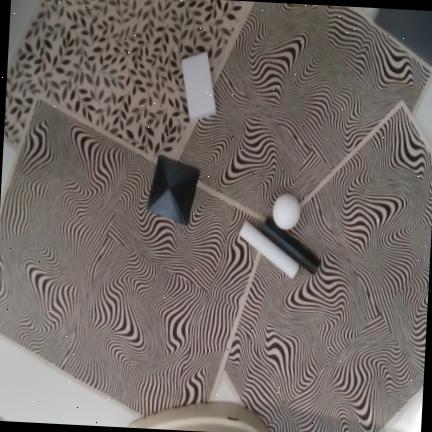Cilindro: (239, 220, 299, 279), (261, 217, 320, 274)
Esfera: (273, 194, 300, 230)
Paralelepipedo: (181, 52, 216, 119)
Piramide: (147, 155, 200, 225)
